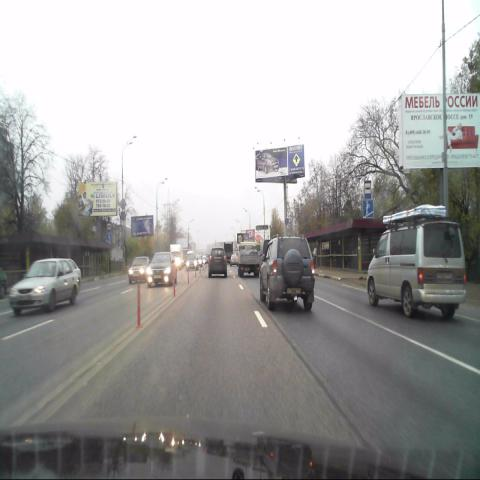5_16: (364, 180, 371, 199)
6_6: (362, 200, 374, 218)
